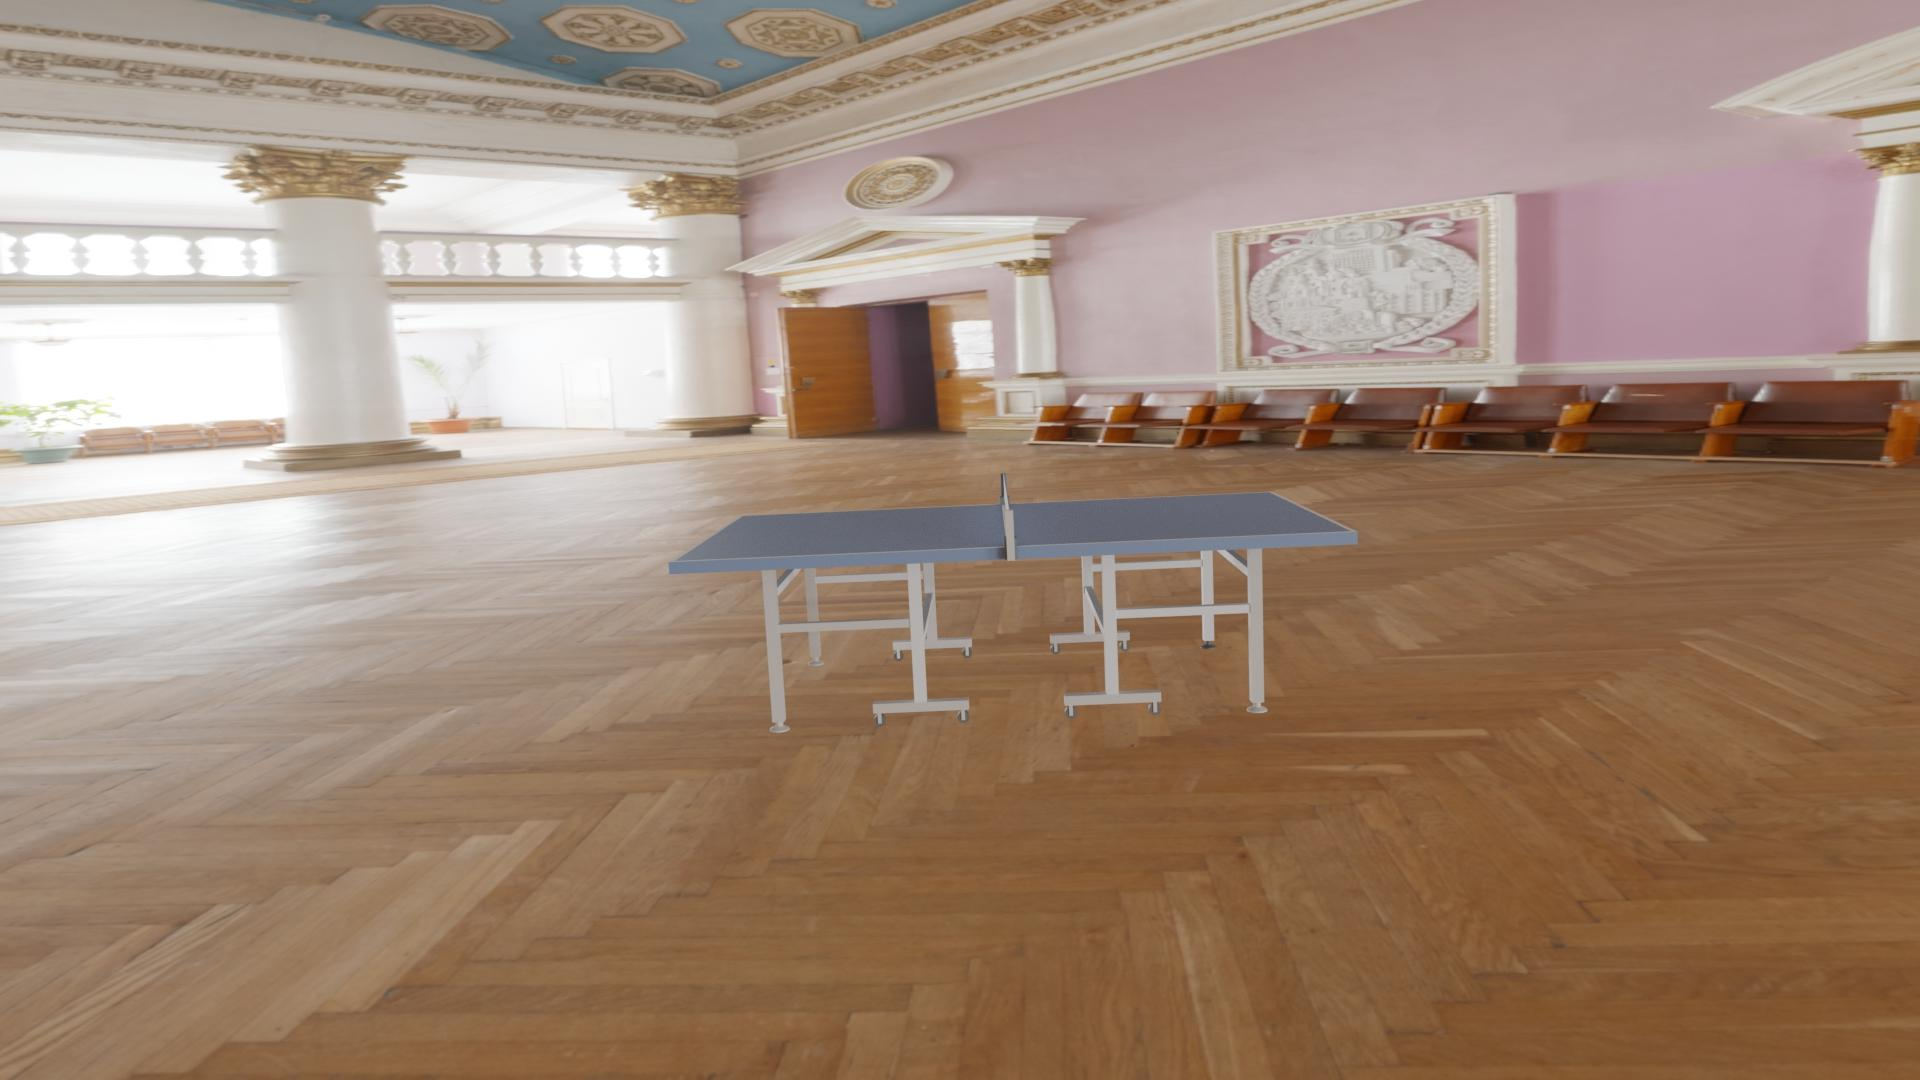table: (674, 492, 1350, 560)
